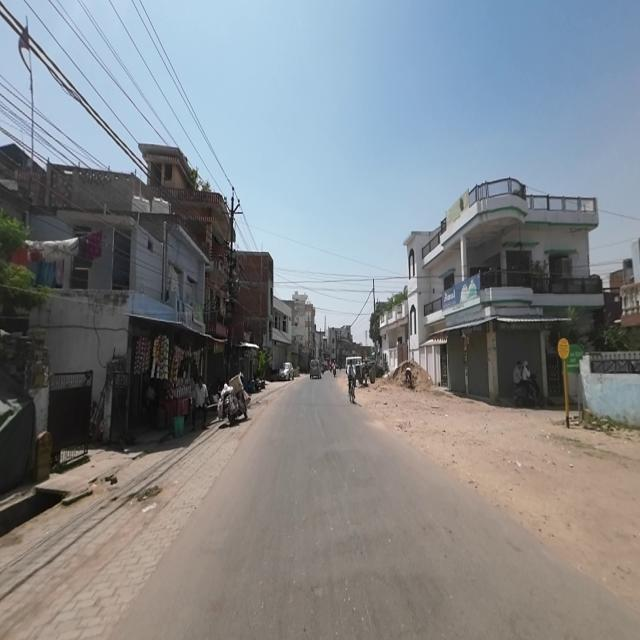Garbage: (135, 483, 163, 501)
